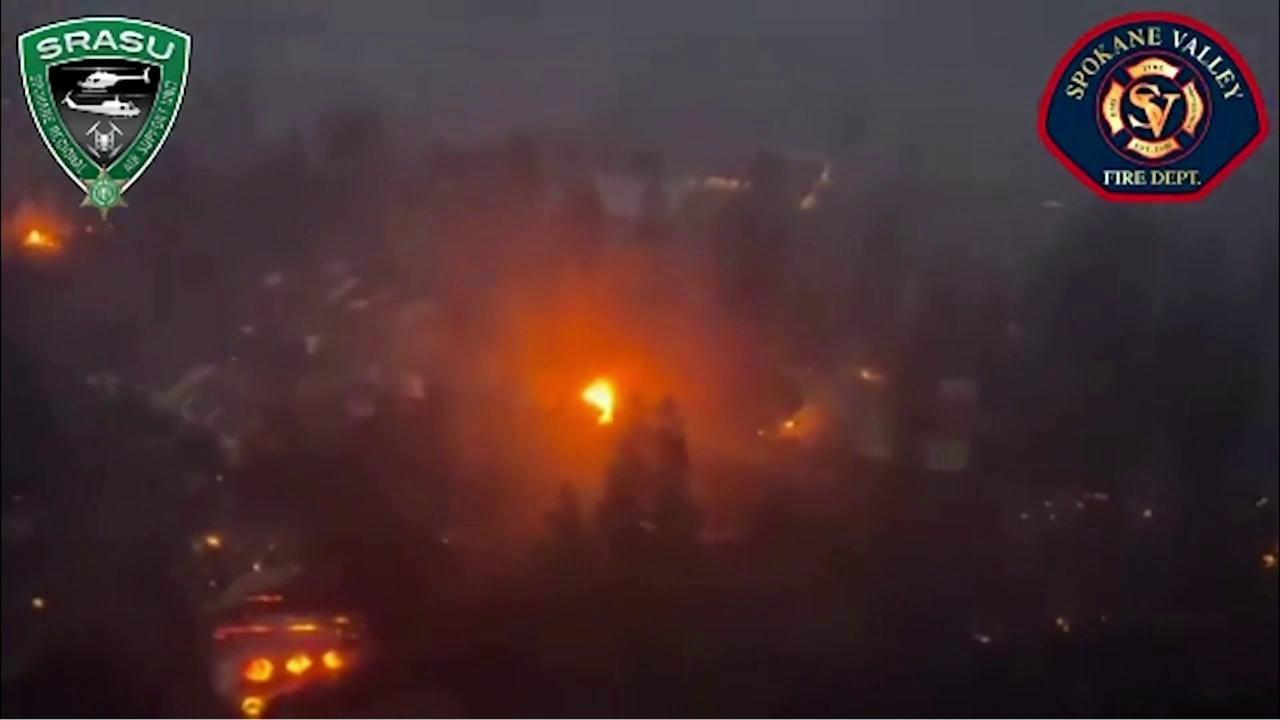fire: (202, 613, 366, 720), (571, 374, 620, 429), (13, 223, 65, 253), (243, 591, 287, 607), (189, 532, 221, 553), (1261, 545, 1280, 573), (853, 367, 881, 383), (30, 593, 49, 610), (780, 417, 800, 431)
smoke: (3, 0, 1280, 720)
